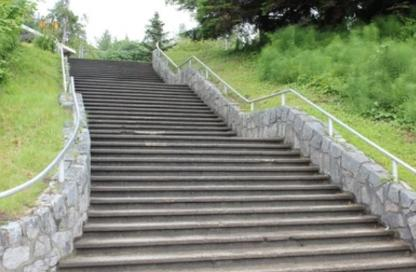stair: (63, 39, 254, 272)
